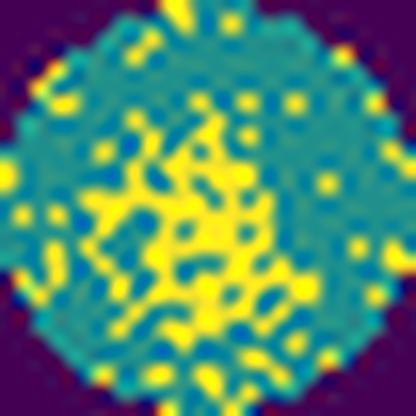Random: (37, 82, 330, 368)
